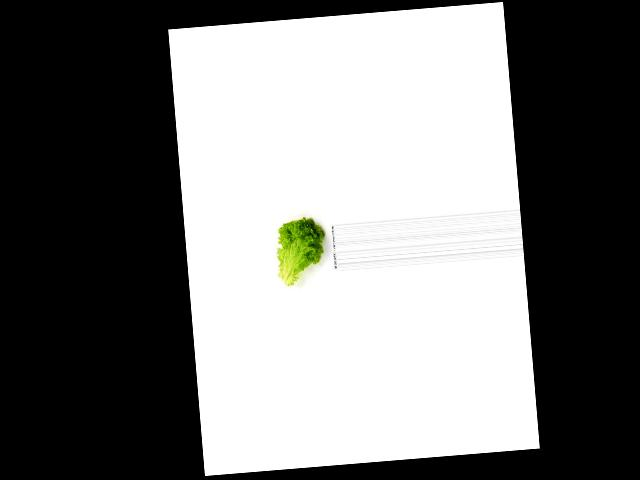lettuce: (271, 213, 328, 286)
